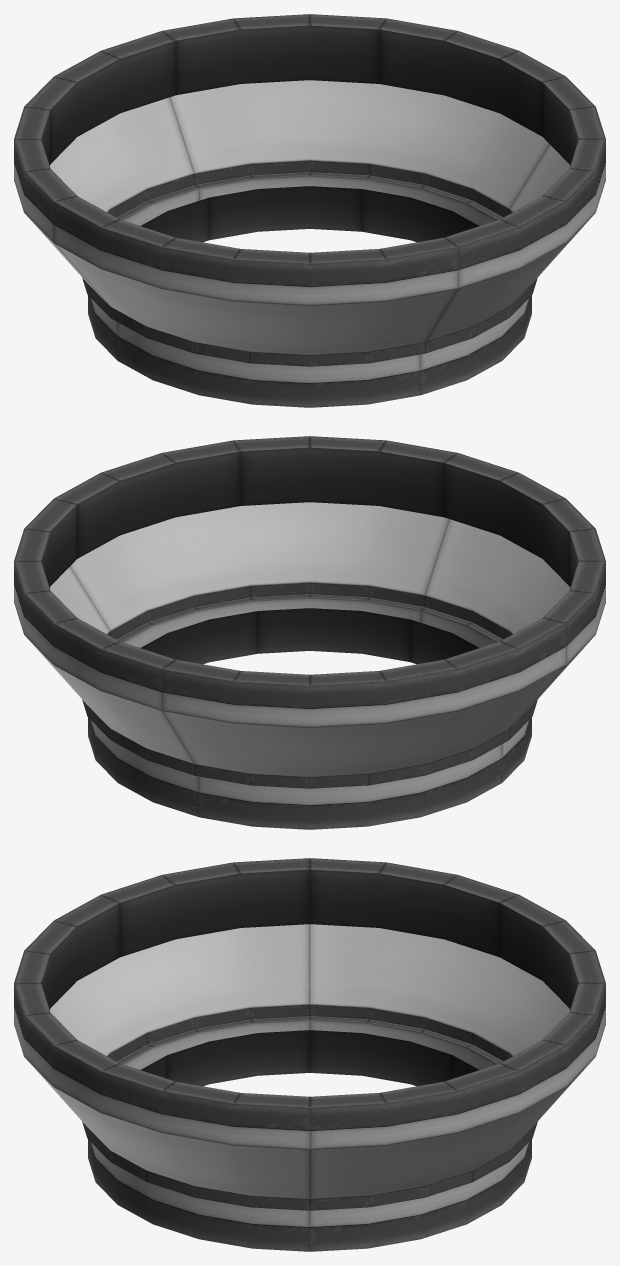
The model's file is Adapter.dae.
3 views of the same model, one above another, from view 1: azimuth 30°, elevation 25°; view 2: azimuth 150°, elevation 25°; view 3: azimuth 270°, elevation 25° (orthographic).
Parts seen in each view (by area): view 1: UpperStageFatAdapter; view 2: UpperStageFatAdapter; view 3: UpperStageFatAdapter.
Boxes of the visible parts, left/top/right/bottom form: UpperStageFatAdapter: left=14, top=14, right=605, bottom=407; UpperStageFatAdapter: left=14, top=436, right=605, bottom=829; UpperStageFatAdapter: left=14, top=858, right=605, bottom=1251.
Size of the model in its own units: 2.5 by 0.8145 by 2.5.
